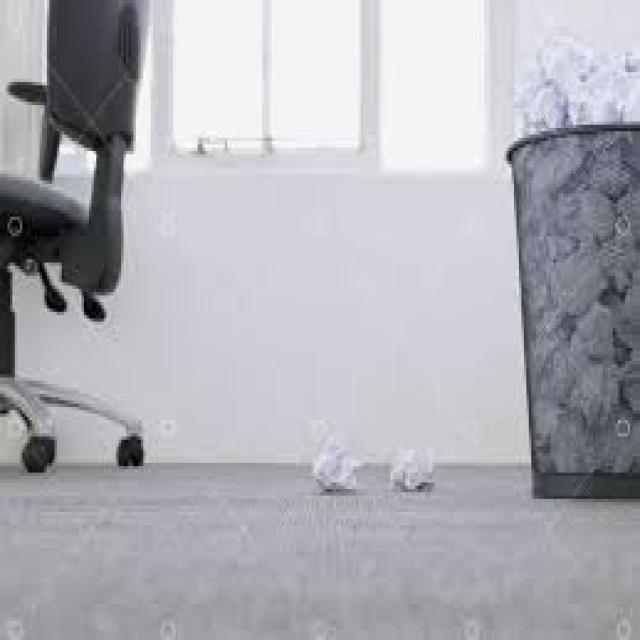paper: (546, 240, 601, 315), (307, 417, 354, 492), (534, 26, 583, 89), (544, 407, 596, 466), (388, 433, 435, 496), (573, 355, 618, 420), (598, 404, 638, 473), (571, 66, 623, 118), (509, 72, 558, 125), (524, 148, 581, 190), (569, 306, 616, 355), (588, 145, 628, 191), (536, 342, 566, 401), (524, 322, 551, 378), (526, 384, 556, 433), (561, 187, 591, 236), (606, 36, 638, 72), (524, 204, 553, 237), (618, 276, 638, 322), (611, 210, 638, 243), (529, 273, 551, 306), (618, 312, 638, 345), (593, 194, 610, 230), (618, 345, 638, 374), (618, 187, 638, 213), (526, 246, 544, 273), (628, 76, 638, 118)
